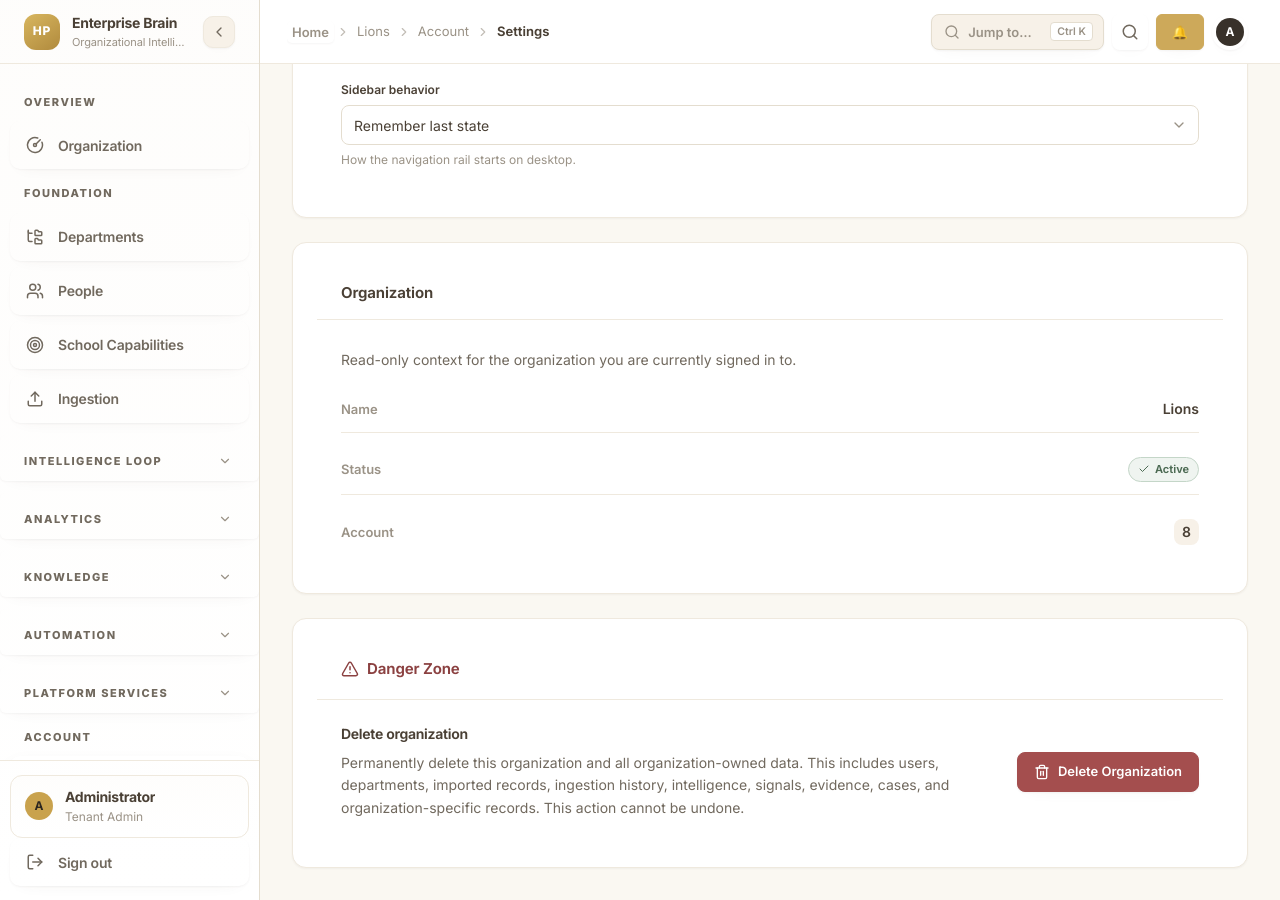
Scenario: permanent deletion ends the session › returns the browser to the login screen
(page scrolled)
Expected: the text "Danger Zone" is shown, [341,659,460,679]
Step 1. Click the button "Delete Organization" → (1108, 772), box [1017,752,1199,792]
(page scrolled)
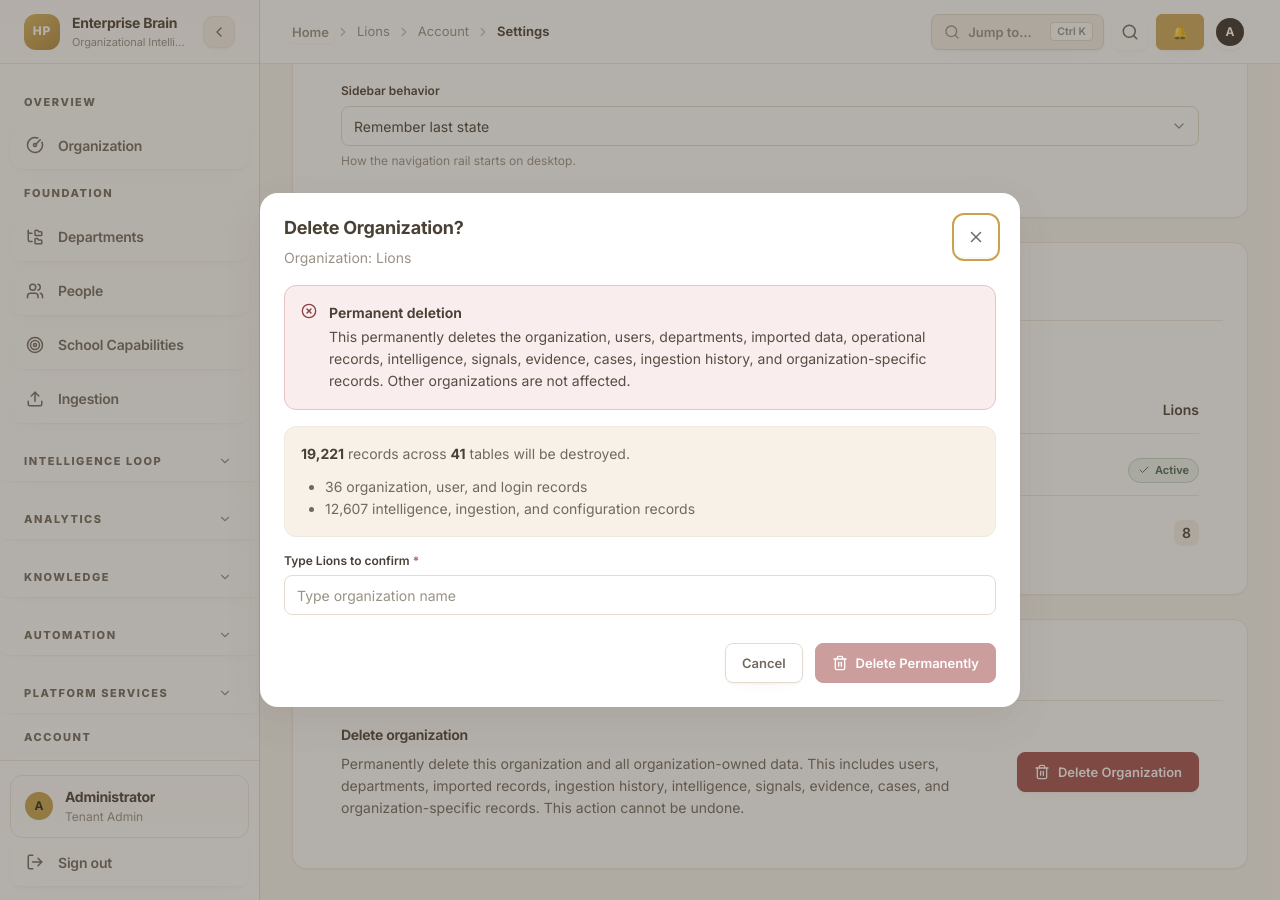
Expected: the text "Organization: Lions" is shown, [284,249,411,266]
Step 2. Type "Lions" into the field with placeholder "Type organization name" → (640, 596), box [284,576,996,616]
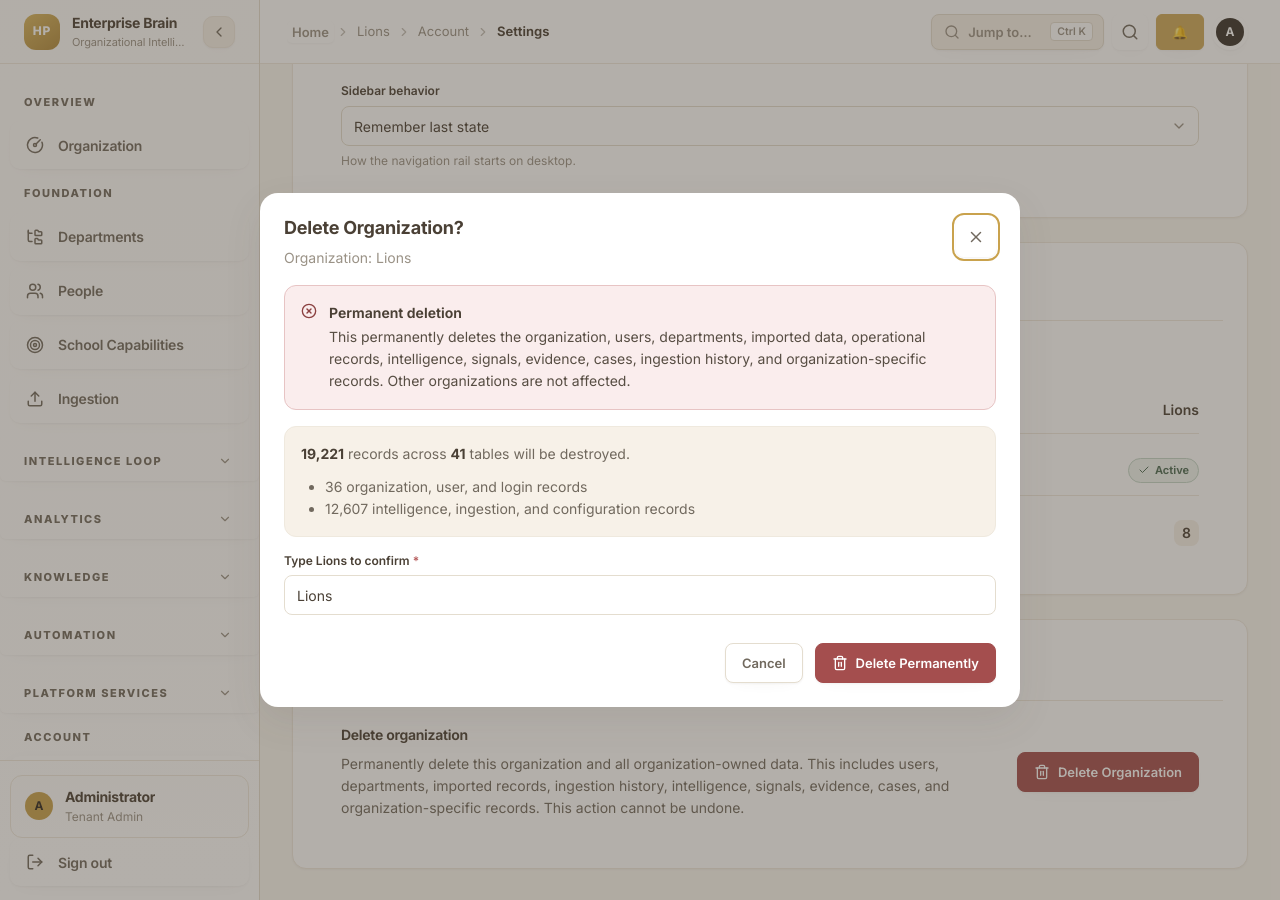
Step 3. Click the button "Delete Permanently" → (905, 664), box [815,644,996,684]
(page scrolled)
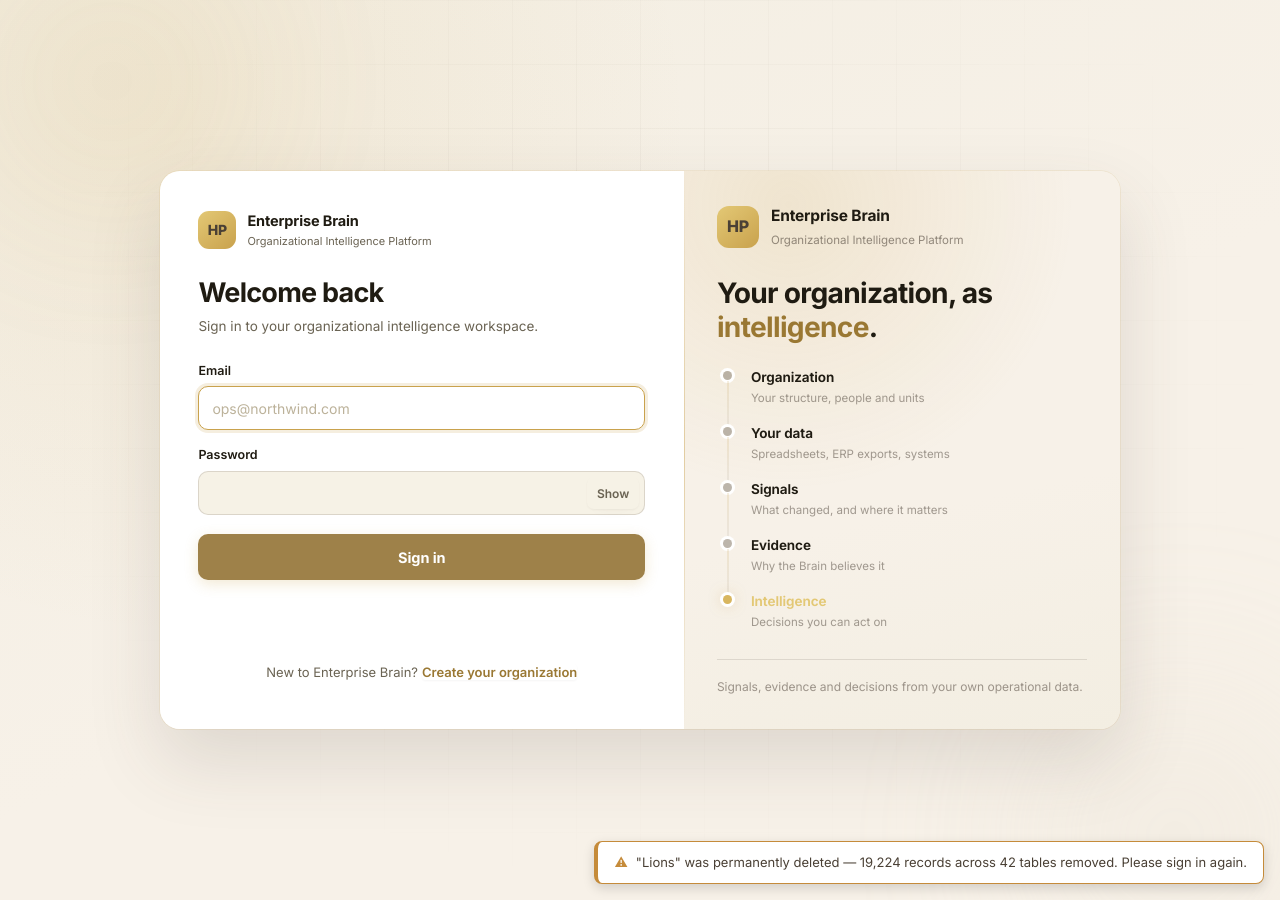
Expected: the heading "Welcome back" is shown, [198,276,384,309]
Expected: the button "Sign in" is shown, [198,534,645,580]
